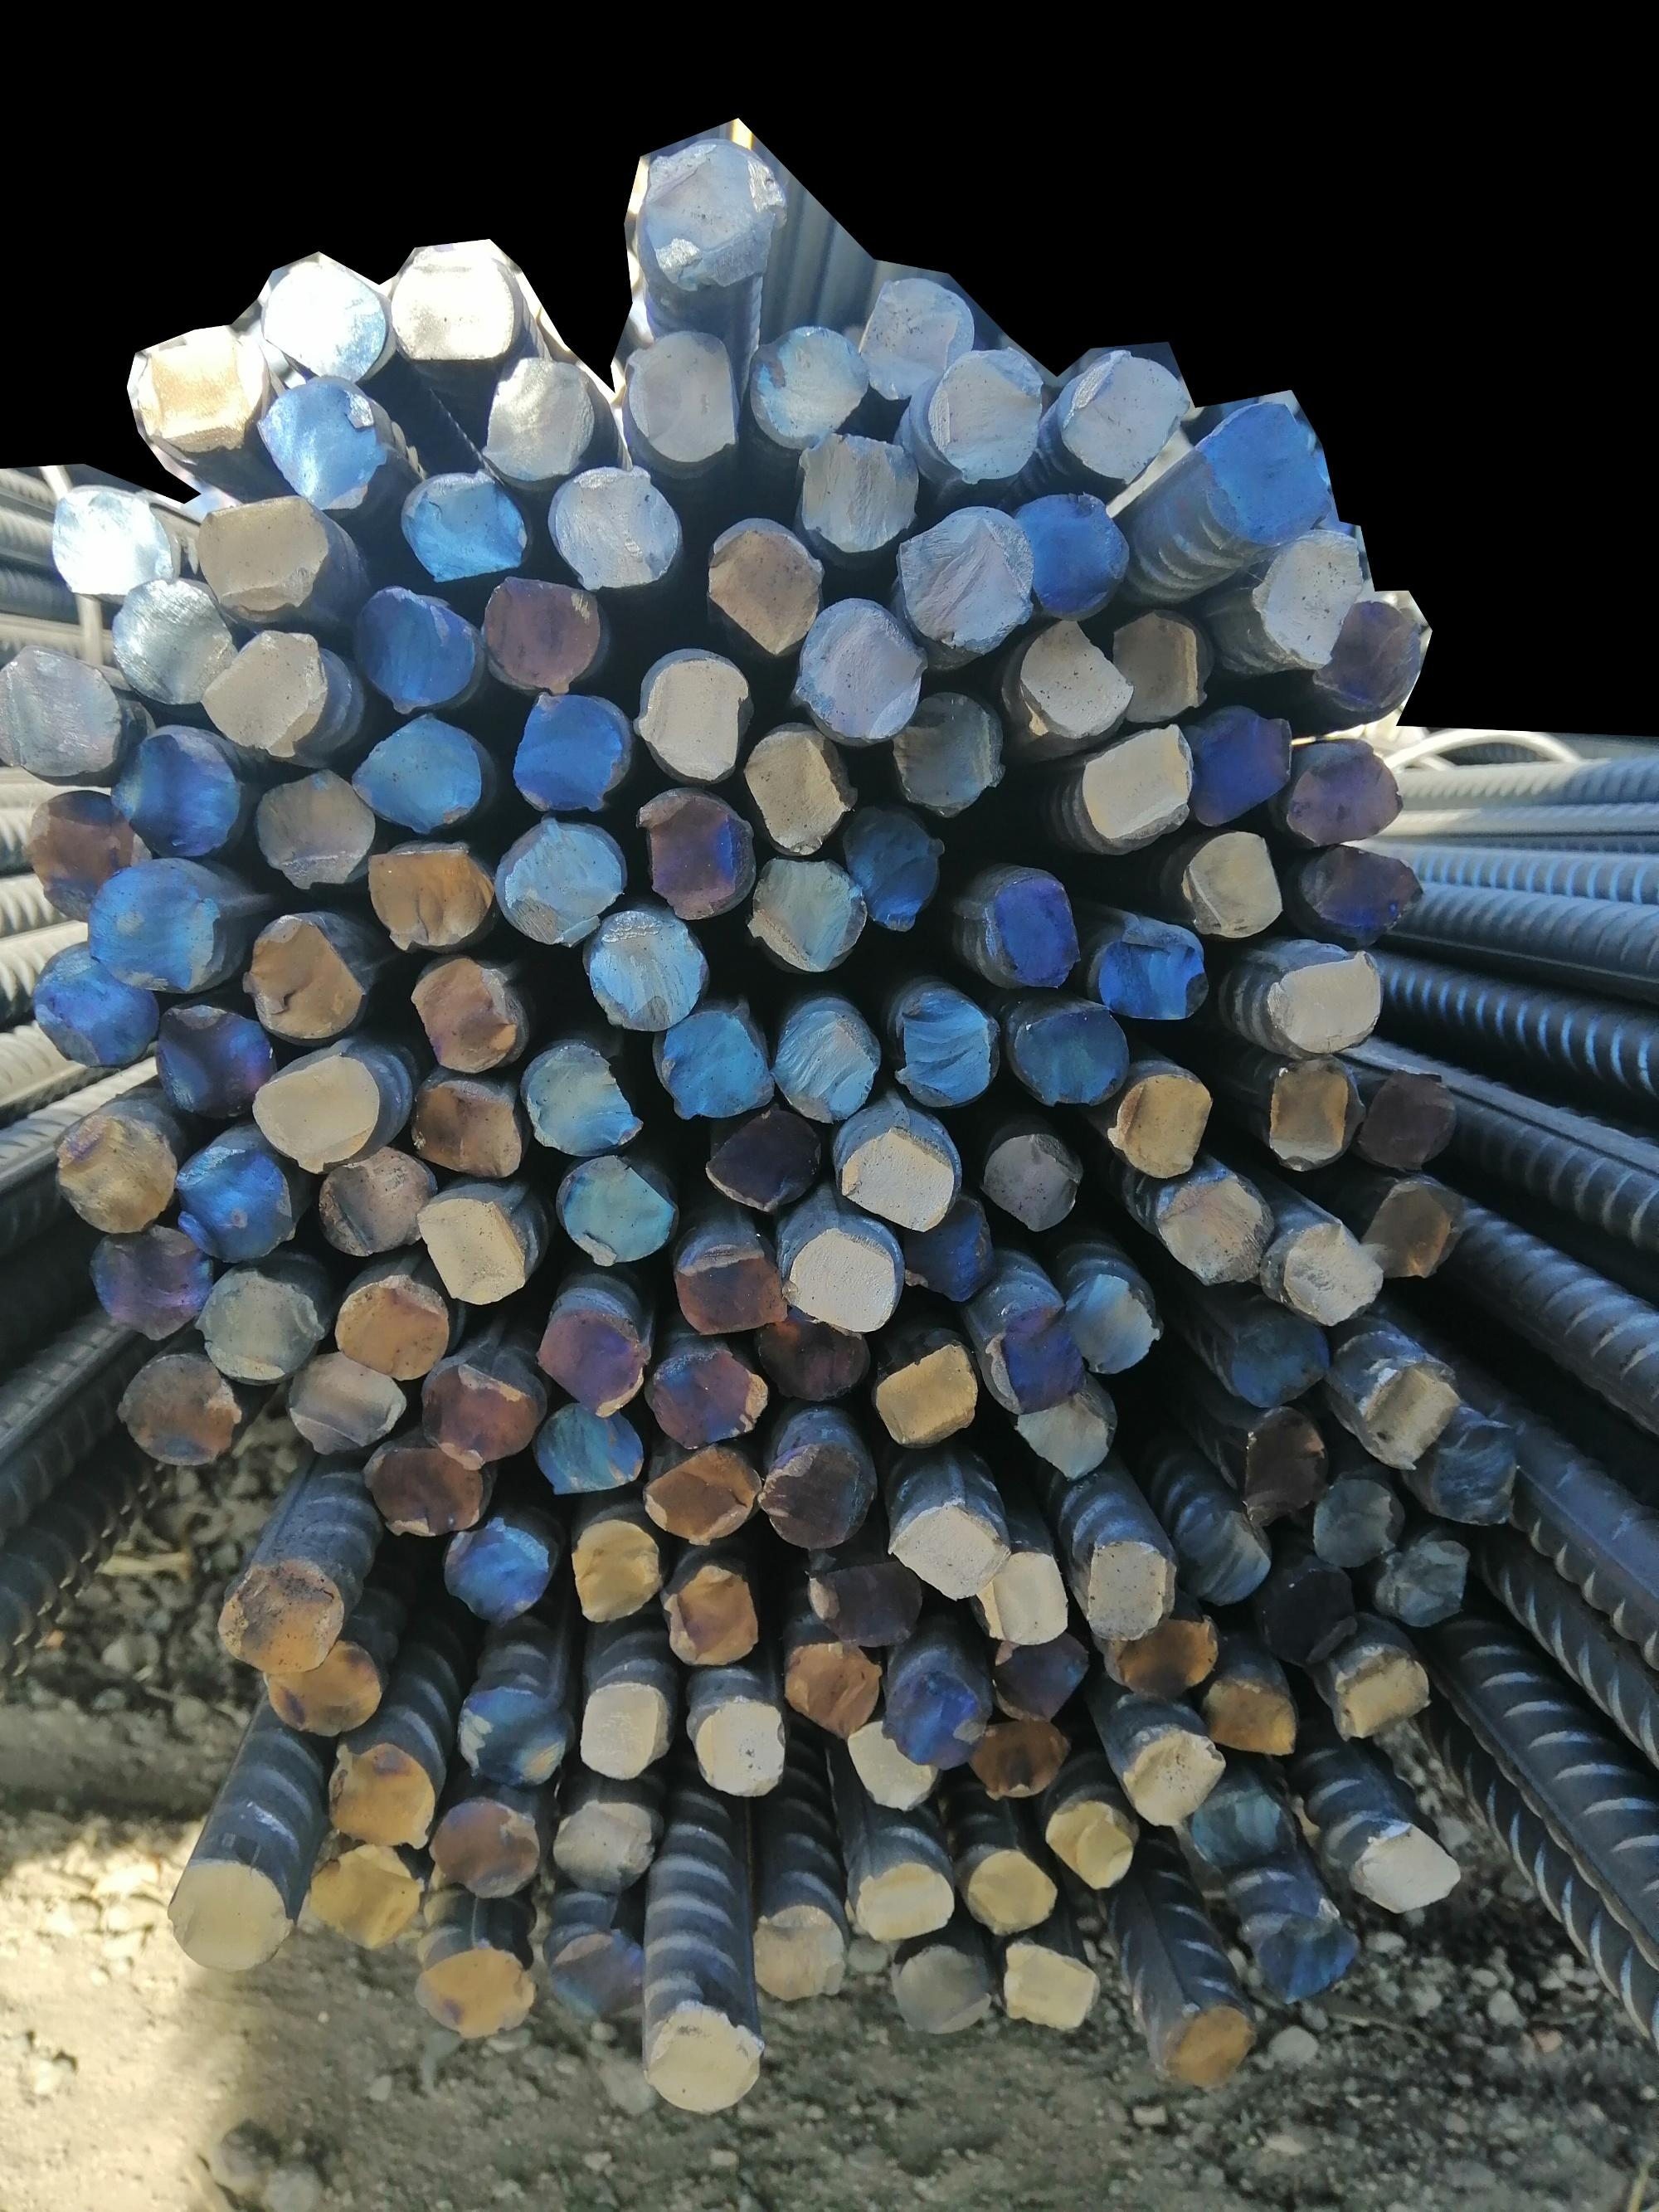bar: (643, 132, 788, 298), (1187, 394, 1337, 553), (896, 500, 1032, 652), (793, 594, 929, 744), (1054, 345, 1192, 490), (124, 324, 272, 455), (0, 634, 127, 786), (612, 326, 742, 471), (544, 458, 681, 594), (349, 577, 479, 720), (256, 370, 390, 507), (789, 424, 925, 558), (87, 861, 227, 992), (242, 908, 369, 1048), (195, 486, 328, 619), (631, 781, 760, 915), (247, 1046, 376, 1180), (47, 467, 174, 603), (202, 622, 328, 760), (884, 683, 1004, 824), (706, 512, 824, 655), (638, 638, 749, 788), (850, 272, 979, 401), (113, 725, 242, 854), (577, 905, 708, 1032), (26, 940, 157, 1067), (213, 1553, 347, 1677), (1249, 528, 1370, 666), (153, 995, 281, 1124), (1147, 1159, 1276, 1286), (640, 1994, 769, 2121), (500, 818, 626, 948), (829, 1110, 960, 1236), (401, 462, 532, 586), (352, 711, 483, 835), (193, 1264, 324, 1388), (253, 765, 375, 898), (749, 317, 870, 451), (117, 573, 237, 708), (924, 347, 1042, 483), (390, 244, 518, 370), (1079, 720, 1202, 849), (28, 788, 145, 924), (1011, 485, 1124, 622), (258, 258, 383, 382), (742, 854, 871, 974), (58, 1105, 176, 1236), (512, 680, 629, 812), (735, 720, 850, 854), (310, 1138, 434, 1262), (167, 1853, 295, 1971), (404, 952, 523, 1077), (321, 1733, 439, 1858), (887, 985, 1004, 1112), (85, 1220, 213, 1337), (477, 354, 592, 483), (1019, 615, 1134, 744), (516, 1041, 647, 1154), (1000, 999, 1133, 1110), (882, 1496, 1014, 1607), (479, 570, 598, 692), (171, 1140, 289, 1262), (118, 1353, 242, 1469), (960, 873, 1086, 988), (1185, 702, 1297, 831), (770, 995, 880, 1126), (831, 797, 938, 931), (1260, 943, 1382, 1060), (410, 1933, 535, 2046), (866, 1333, 983, 1454), (357, 842, 491, 947), (650, 1006, 772, 1121), (1340, 1813, 1466, 1924), (634, 1447, 765, 1553), (415, 1189, 532, 1307), (361, 1433, 490, 1539), (753, 1438, 870, 1555), (556, 1149, 674, 1264), (401, 1069, 521, 1182), (328, 1271, 450, 1382), (535, 1302, 652, 1417), (251, 1639, 390, 1734), (695, 1105, 821, 1211), (1265, 1213, 1382, 1327), (1253, 1055, 1364, 1173), (418, 1358, 537, 1469), (284, 1351, 408, 1457), (878, 1654, 990, 1771), (453, 1675, 568, 1787), (1284, 739, 1403, 847), (554, 1788, 673, 1896), (978, 1297, 1082, 1419), (647, 1346, 770, 1449), (425, 1788, 542, 1896), (1422, 1403, 1520, 1532), (303, 1842, 425, 1945), (1091, 915, 1208, 1021), (788, 1224, 901, 1332), (1183, 821, 1283, 943), (1107, 1065, 1215, 1177), (1349, 1358, 1457, 1469), (1253, 1550, 1359, 1663), (1107, 608, 1211, 723), (1354, 1065, 1459, 1180), (997, 1931, 1103, 2043), (441, 1522, 556, 1625), (1239, 1405, 1333, 1530), (525, 1400, 641, 1501), (1363, 1175, 1462, 1293), (800, 1550, 920, 1647), (1321, 598, 1427, 708), (1244, 1905, 1358, 2008), (1108, 1607, 1220, 1710), (1220, 1309, 1333, 1410), (1297, 845, 1417, 940), (978, 1128, 1086, 1232), (1324, 1639, 1429, 1747), (892, 1196, 995, 1306), (1364, 1527, 1474, 1630), (573, 1673, 676, 1783), (673, 1245, 788, 1342), (1080, 1529, 1178, 1644), (538, 1914, 643, 2020), (1115, 1727, 1223, 1830), (749, 1306, 866, 1400), (742, 1902, 847, 2006), (652, 1562, 756, 1665), (1014, 1388, 1122, 1485), (1298, 1476, 1406, 1574), (986, 1625, 1096, 1720), (779, 1635, 880, 1738), (568, 1520, 664, 1628), (1063, 1267, 1157, 1377), (976, 1548, 1073, 1652), (892, 1940, 997, 2038), (690, 1693, 784, 1801), (845, 1856, 958, 1945), (1150, 1998, 1248, 2100), (1040, 1794, 1138, 1895), (842, 1719, 945, 1813), (1173, 1503, 1265, 1607), (1194, 1666, 1297, 1759), (1183, 1788, 1288, 1879), (971, 1720, 1068, 1813), (960, 1848, 1054, 1935)
